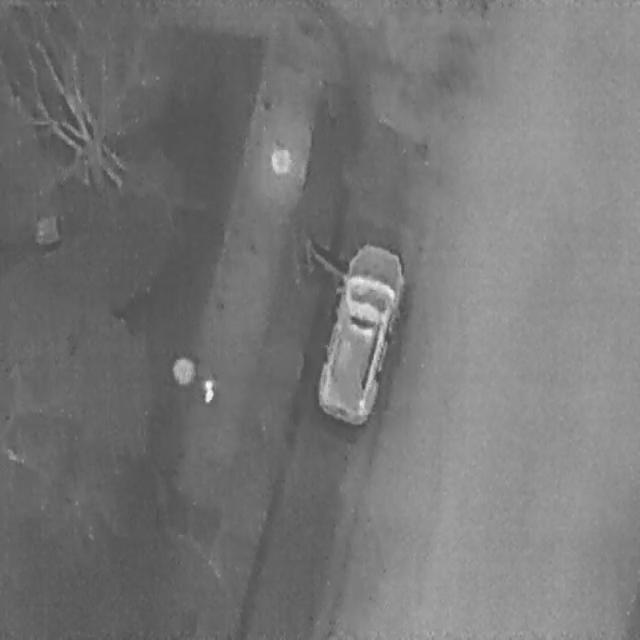Car: (311, 234, 411, 424)
Person: (201, 372, 212, 407)
